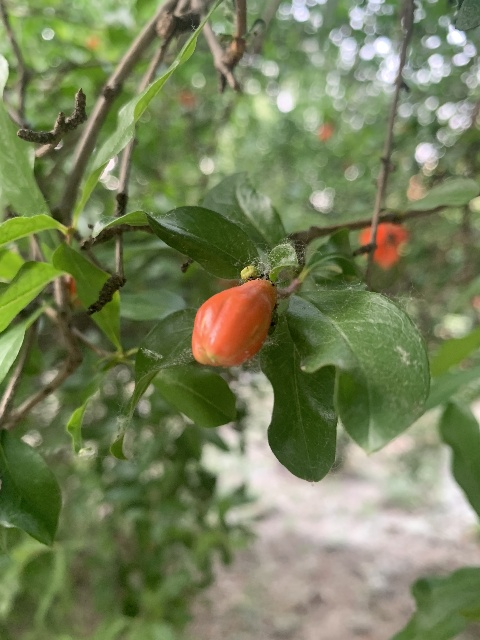bud: (191, 278, 275, 368)
flower: (359, 223, 408, 269)
